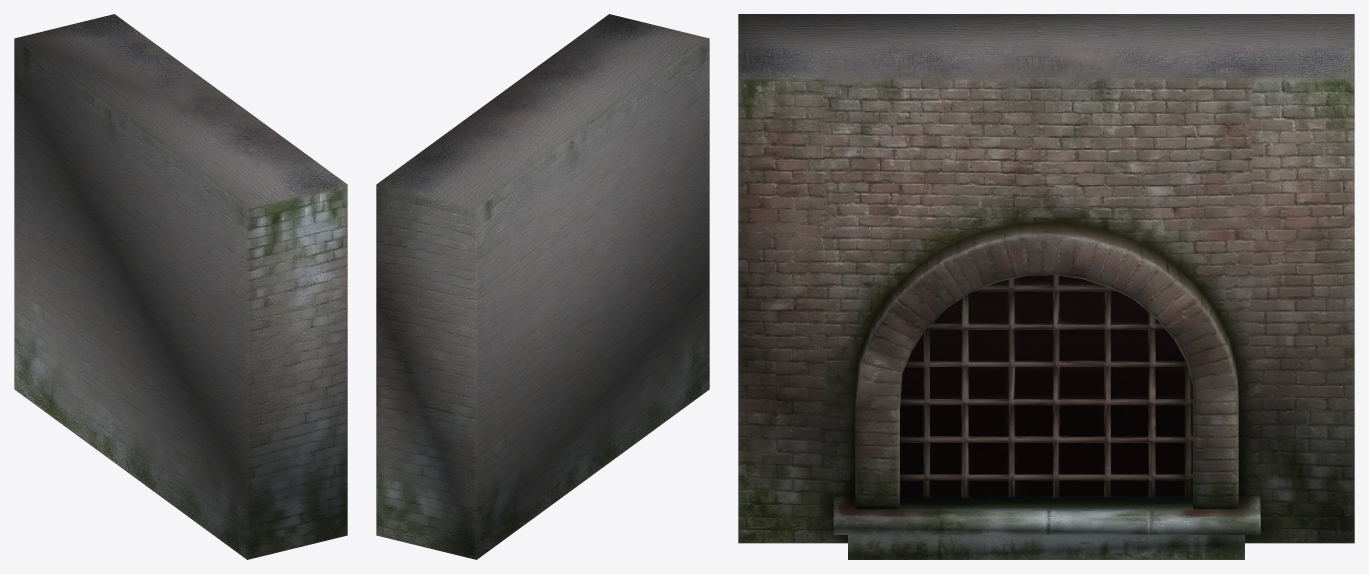
Rendered from outfall.glb.
3 views of the same model, side by side, from view 1: azimuth 30°, elevation 25°; view 2: azimuth 150°, elevation 25°; view 3: azimuth 270°, elevation 25° (orthographic). The views are drawn at different scales.
Parts seen in each view (by area): view 1: model; view 2: model; view 3: model.
Part boxes in pixels (x1,y1,x2,y2): model: (14,14,347,559); model: (376,14,709,559); model: (738,14,1354,559).
Size of the model in its own units: 0.4024 by 1 by 1.2.
1 material, 1 textured.
